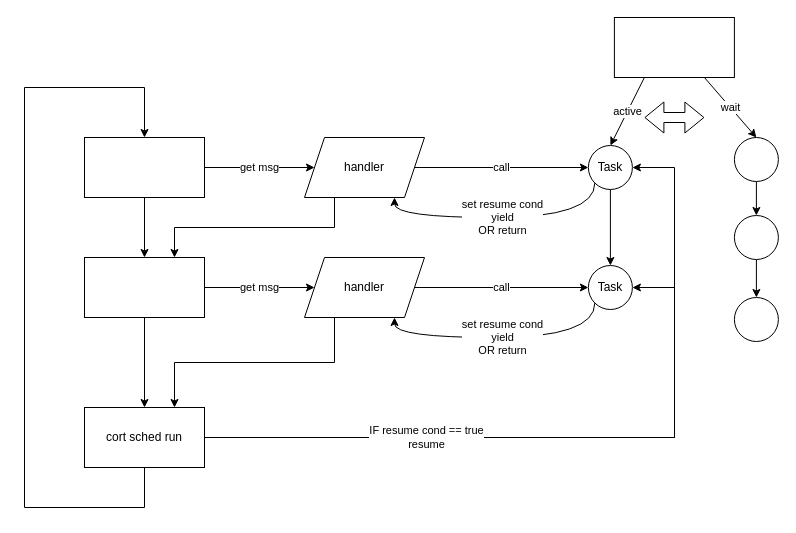
The diagram is 796 pixels wide and 533 high, and some of its shapes have lost their labels. The shapes that lost their labels are listed below. From the top down, each one's box as (x1, y1, x2, y2) in pixels, then its label:
(613, 16, 734, 78): cort scheduler
(84, 136, 204, 198): erpc event loop
(84, 256, 204, 318): msgq event loop
